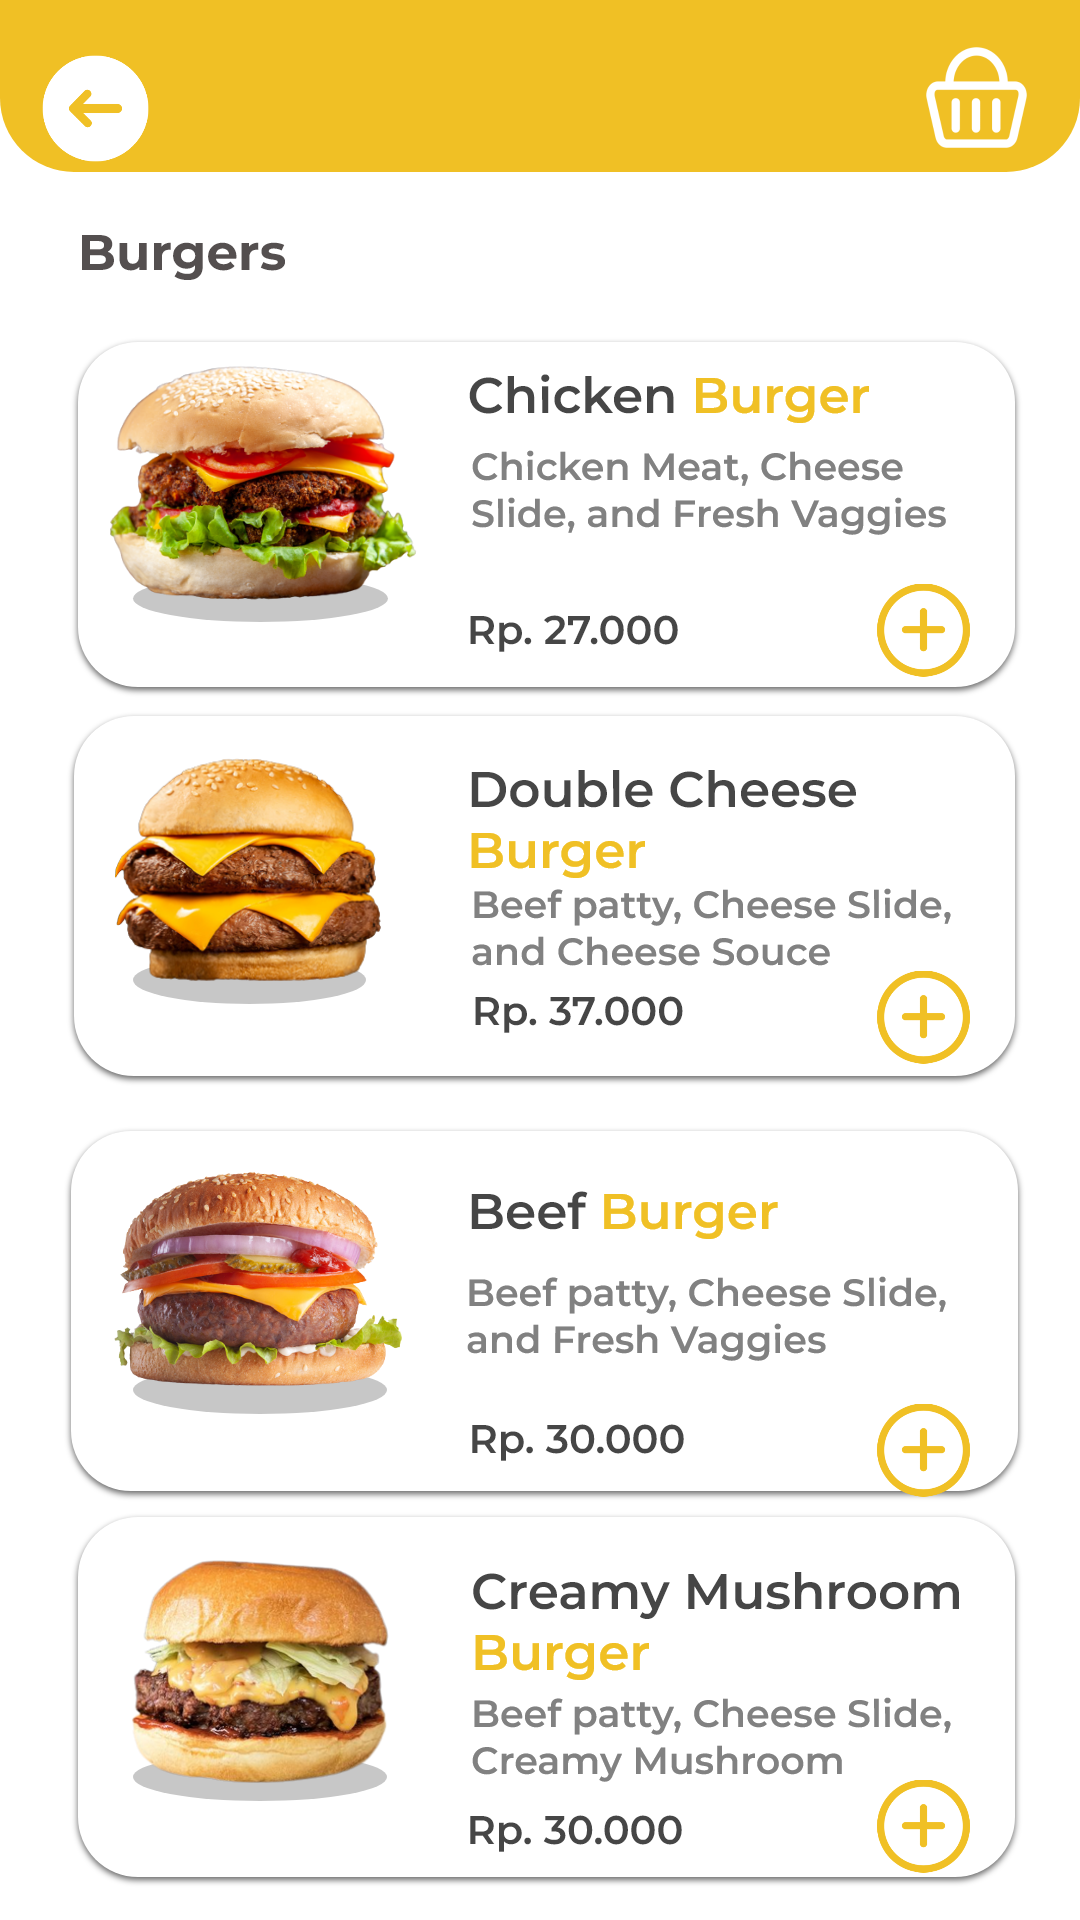

Named icons in this screenshot (1080px×1920px) and their bounding boxes, (x1, y1, x2, y2):
add: (877, 584, 970, 677), (877, 971, 970, 1064), (877, 1404, 970, 1497), (877, 1780, 970, 1873)
back: (42, 55, 149, 162)
cart: (926, 47, 1027, 148)
